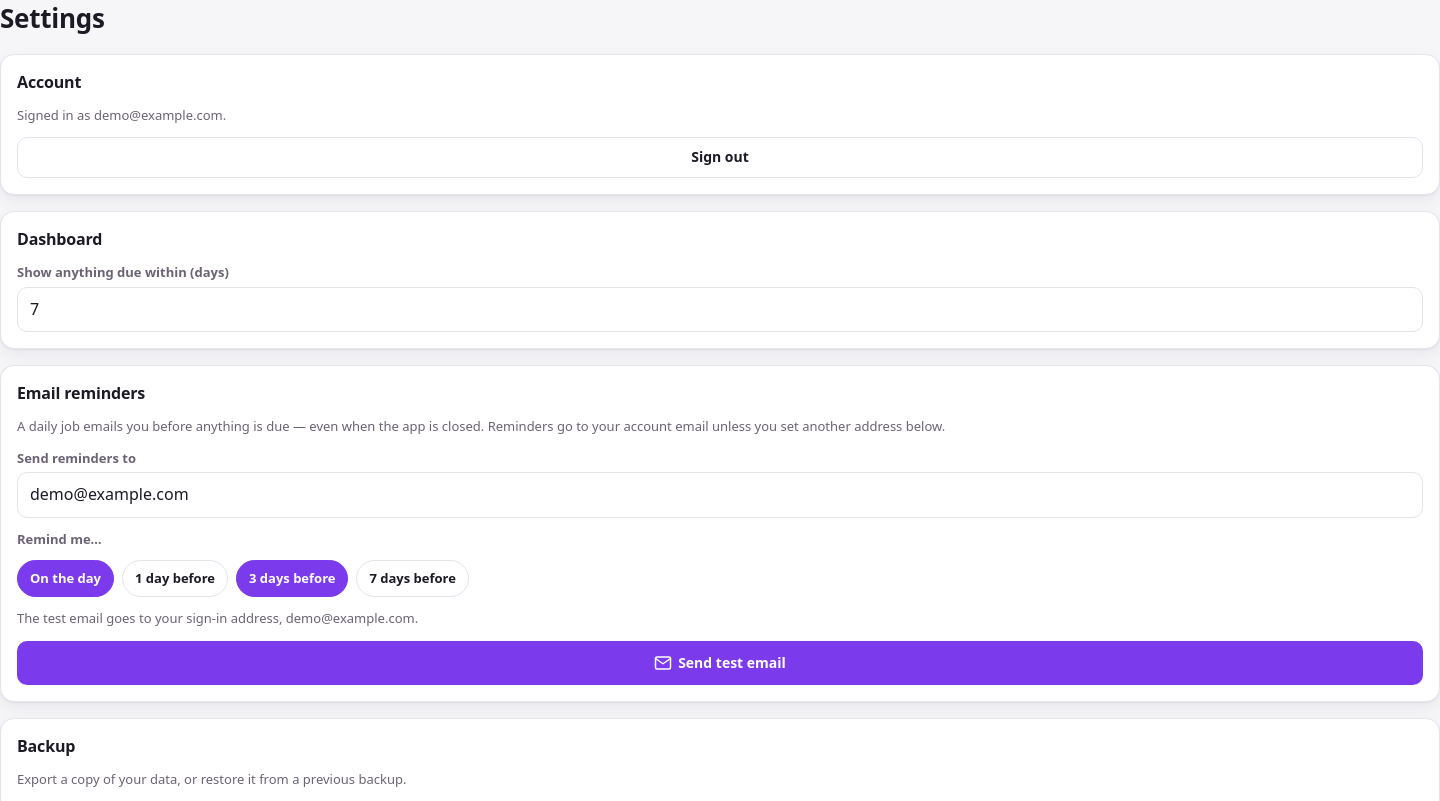
Test case: SettingsView reminder recipient › clears the error as soon as the user edits again
This screenshot has width=1440, height=801.
Step 1. Type "not-an-email" into the field labelled "Send reminders to" → (720, 495), box [17, 472, 1423, 518]
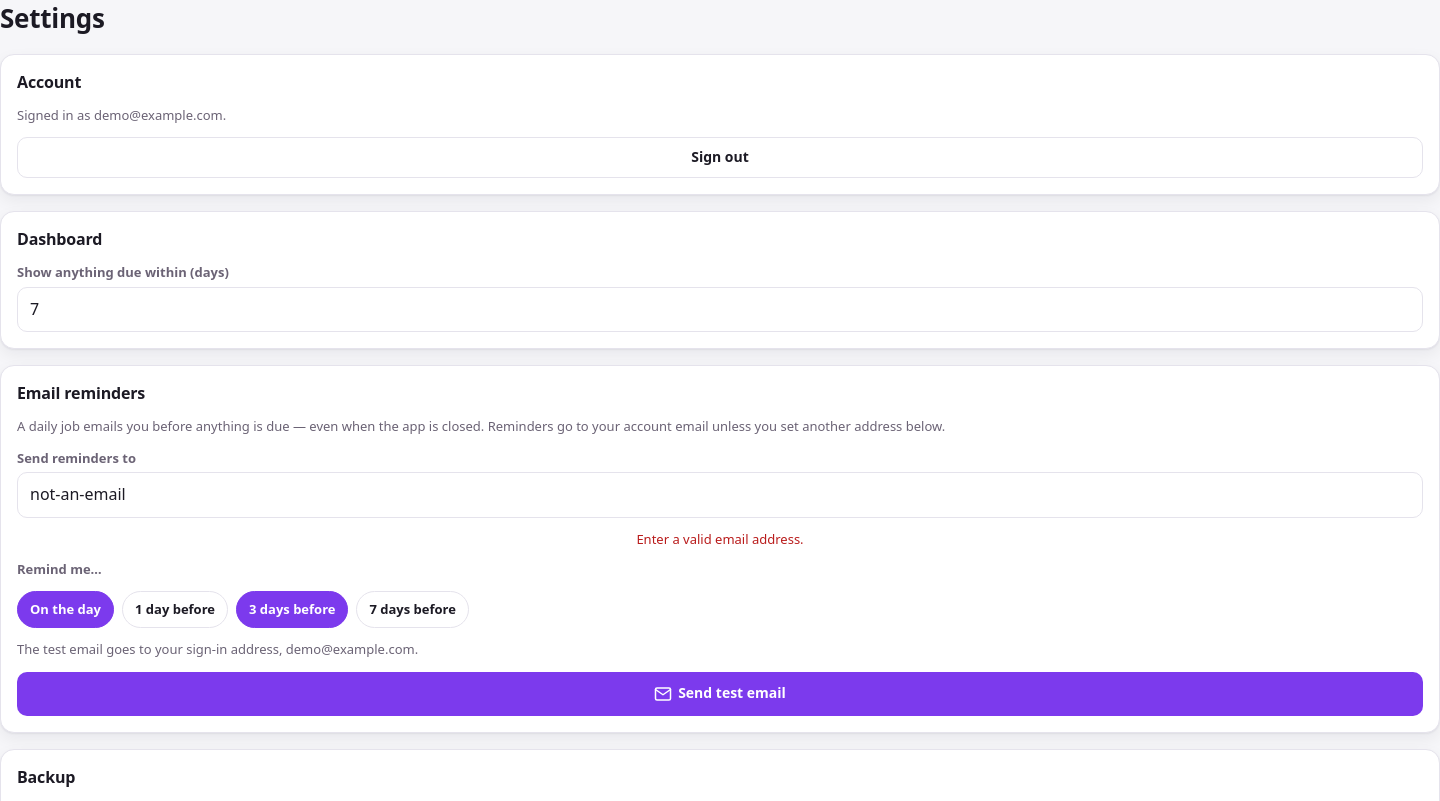
Step 2. Replace the text in the field labelled "Send reminders to" with "new@" → (720, 495), box [17, 472, 1423, 518]
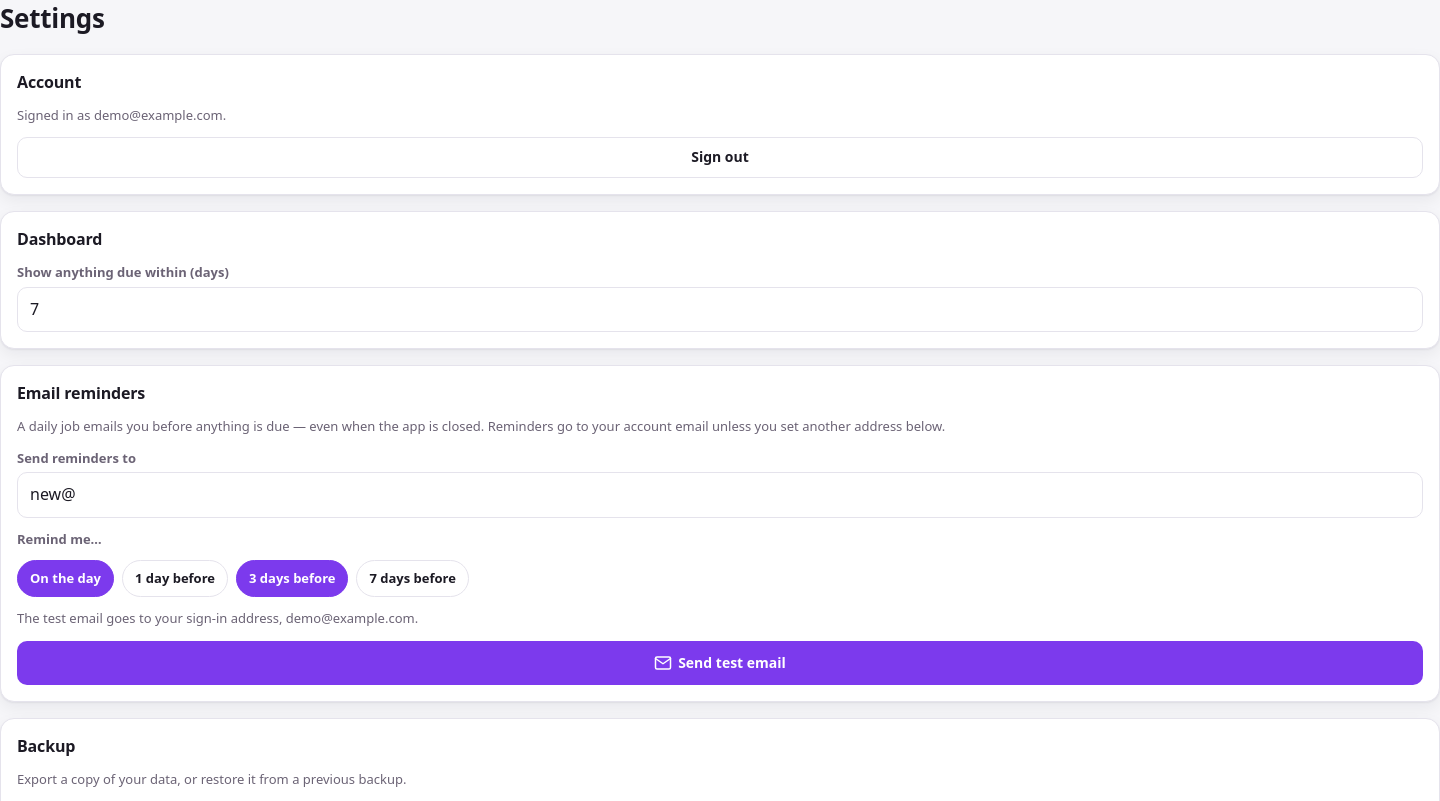
Expected: the message "Enter a valid email address." is gone
